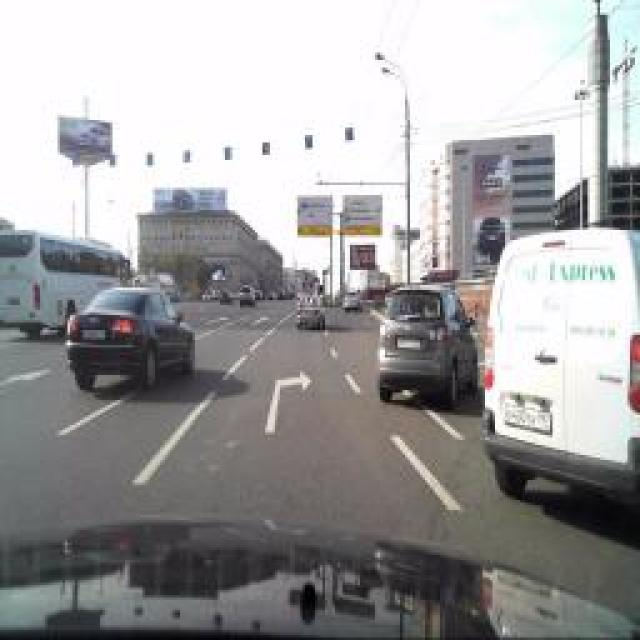sign: (344, 125, 354, 143), (222, 145, 232, 160), (304, 134, 314, 148)
